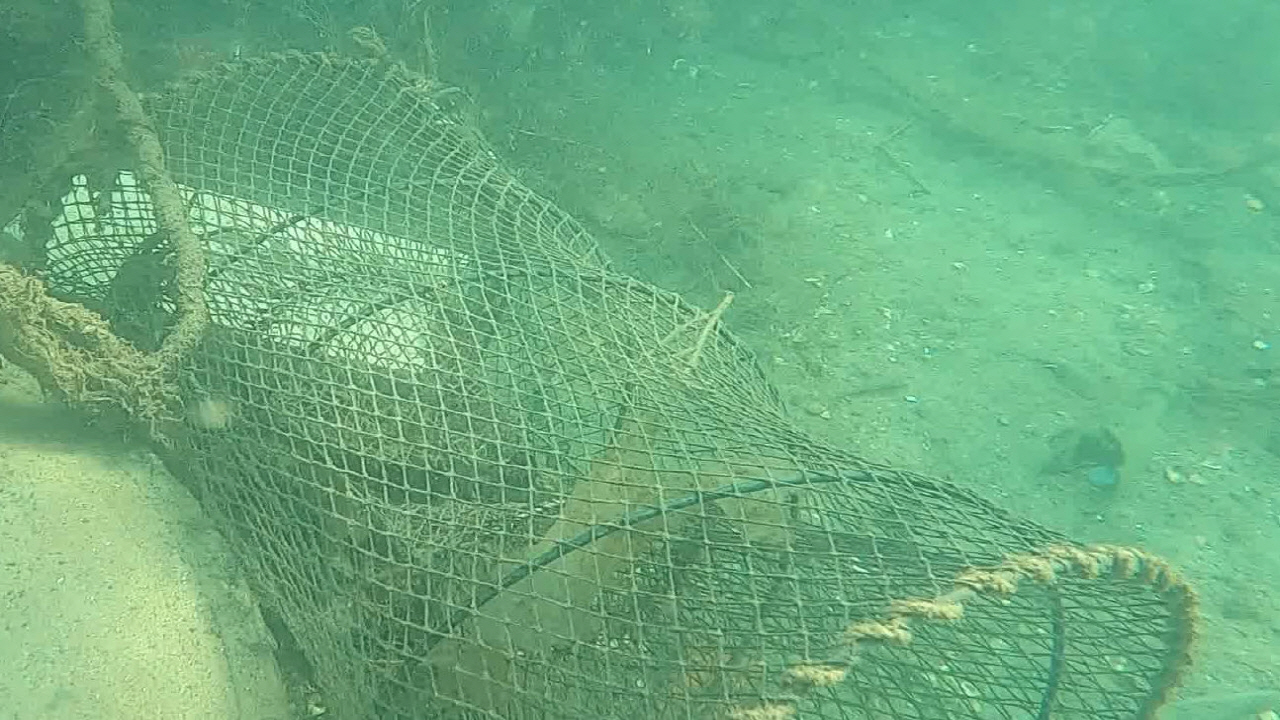spring fish trap: (12, 47, 1194, 720)
